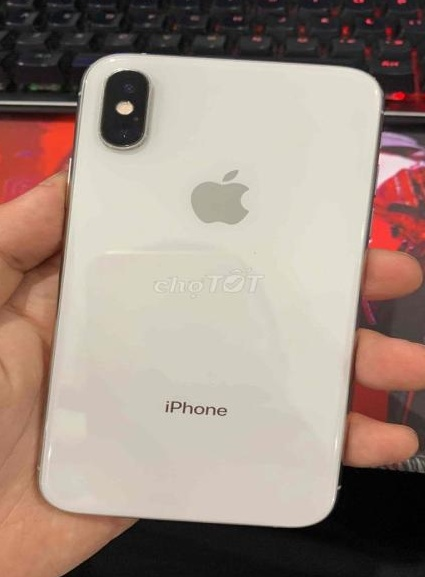scratch: (110, 138, 152, 150), (136, 131, 157, 144)
